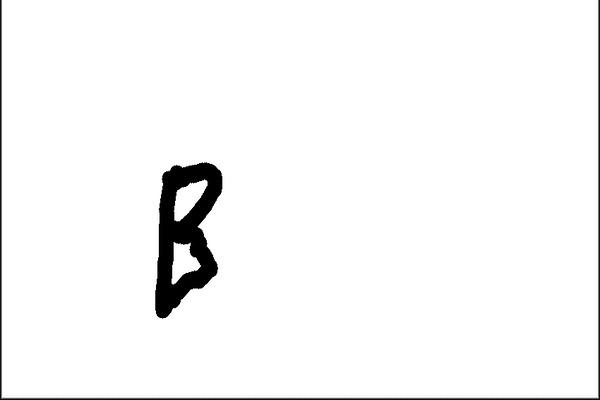B: (142, 153, 230, 326)
